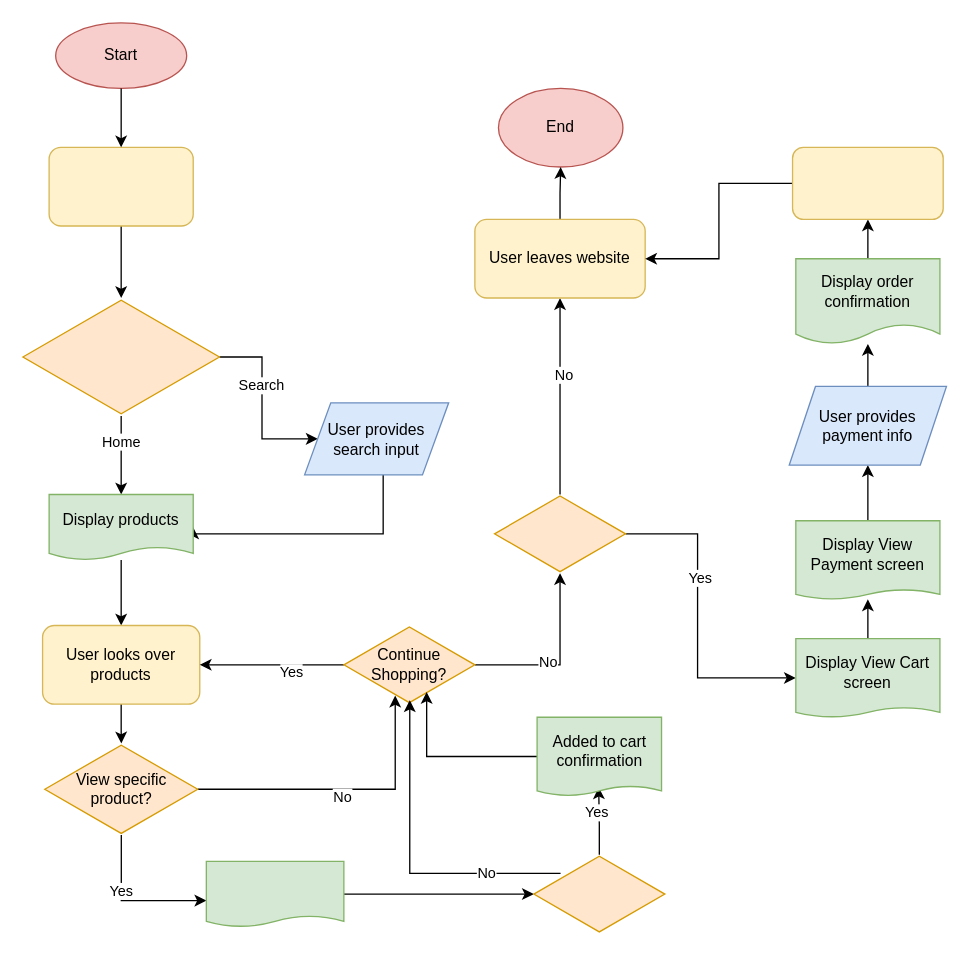
This 969x956 diagram has some shape labels left out. The centre of each missing label's shape, as x and y in pixels:
"Add to cart?" goes at pixel 599 893.
"Checkout?" goes at pixel 559 533.
"Display product" goes at pixel 274 893.
"Search for products or explore home page?" goes at pixel 120 356.
"Send confirmation email" goes at pixel 867 182.
"User enters website" goes at pixel 120 186.
